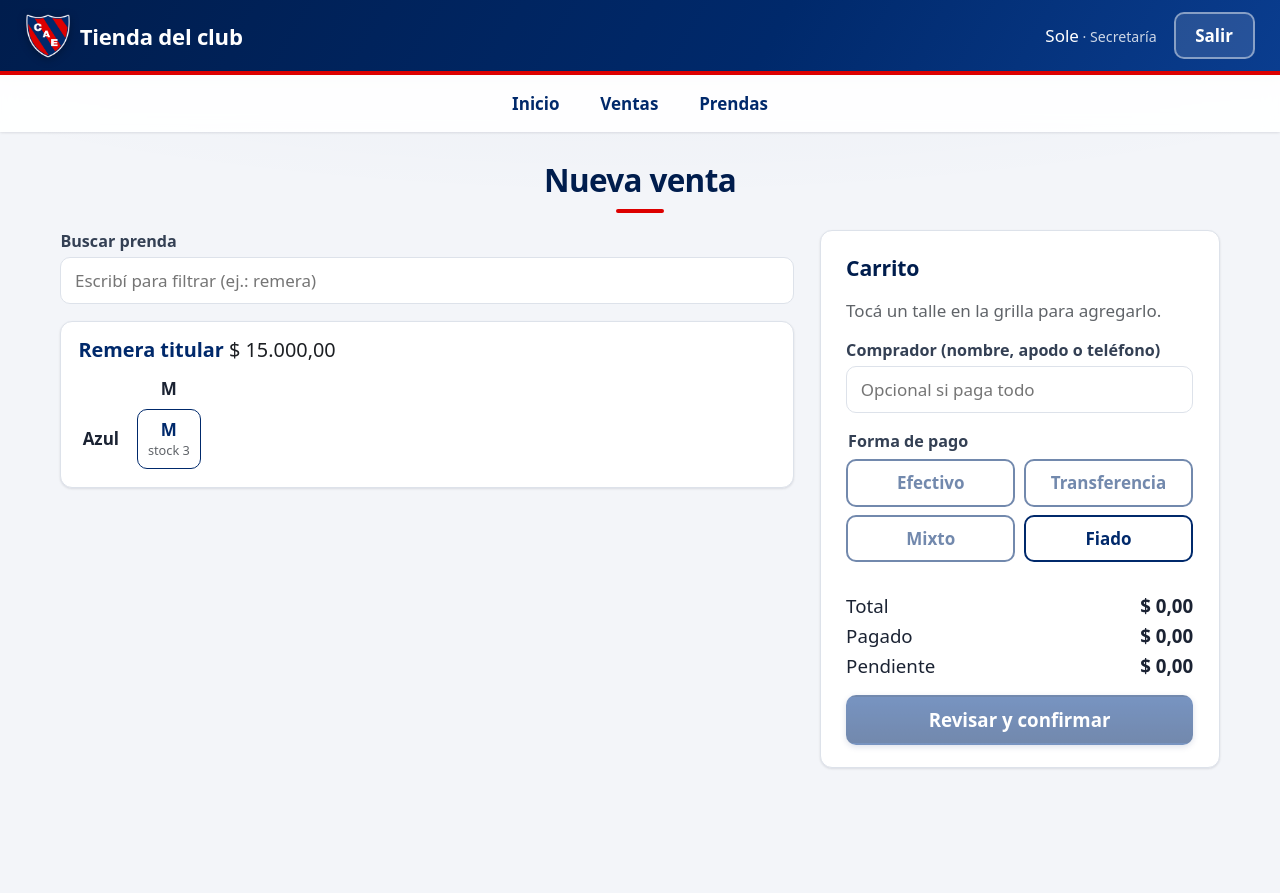
Test: Nueva venta › pago mixto: al escribir el efectivo, la transferencia se completa con lo que falta
This screenshot has width=1280, height=893.
Step 1. Type "remera" into the search field labelled "Buscar prenda" → (427, 281), box [60,257,794,304]
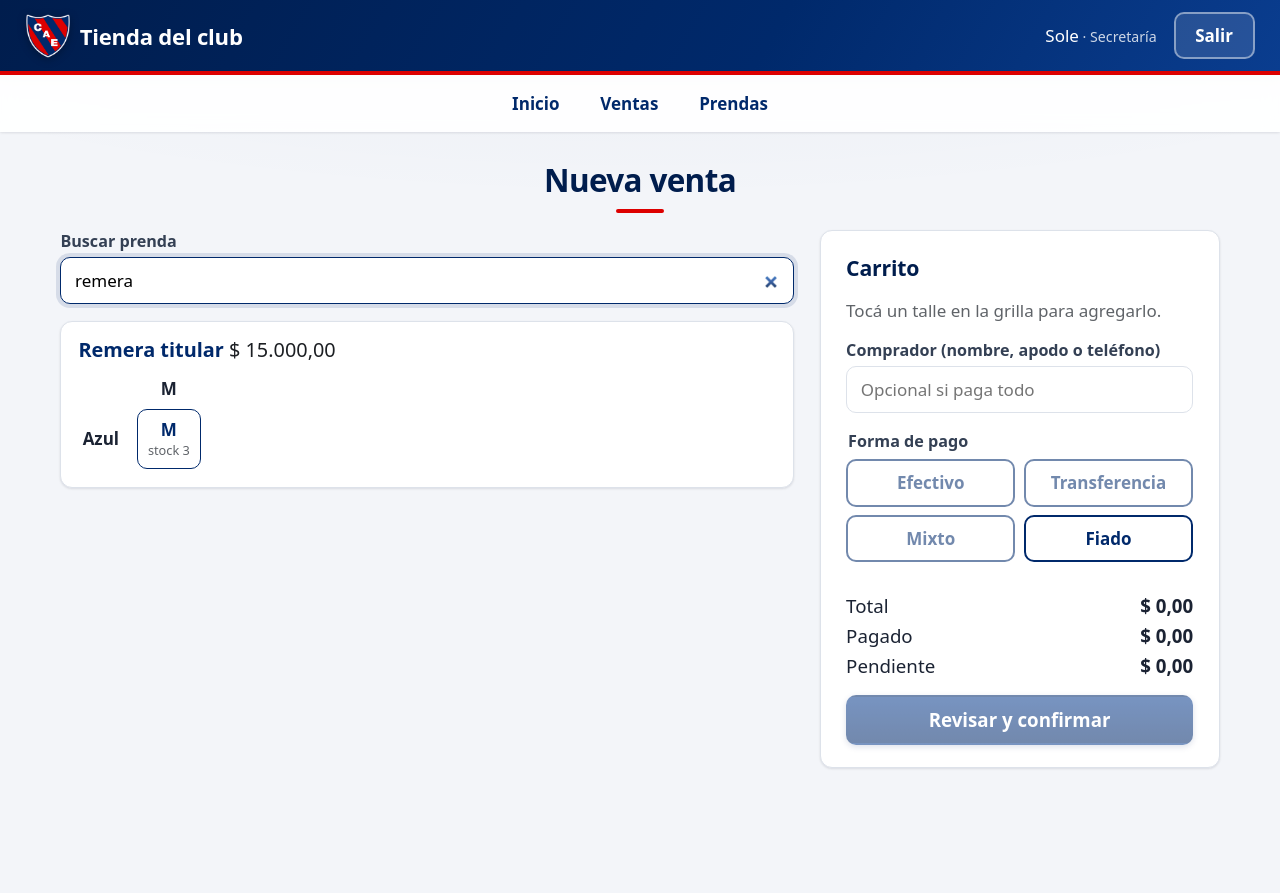
Step 2. Click the button with aria-label "Azul M, stock 3" → (169, 439), box [137,409,201,469]
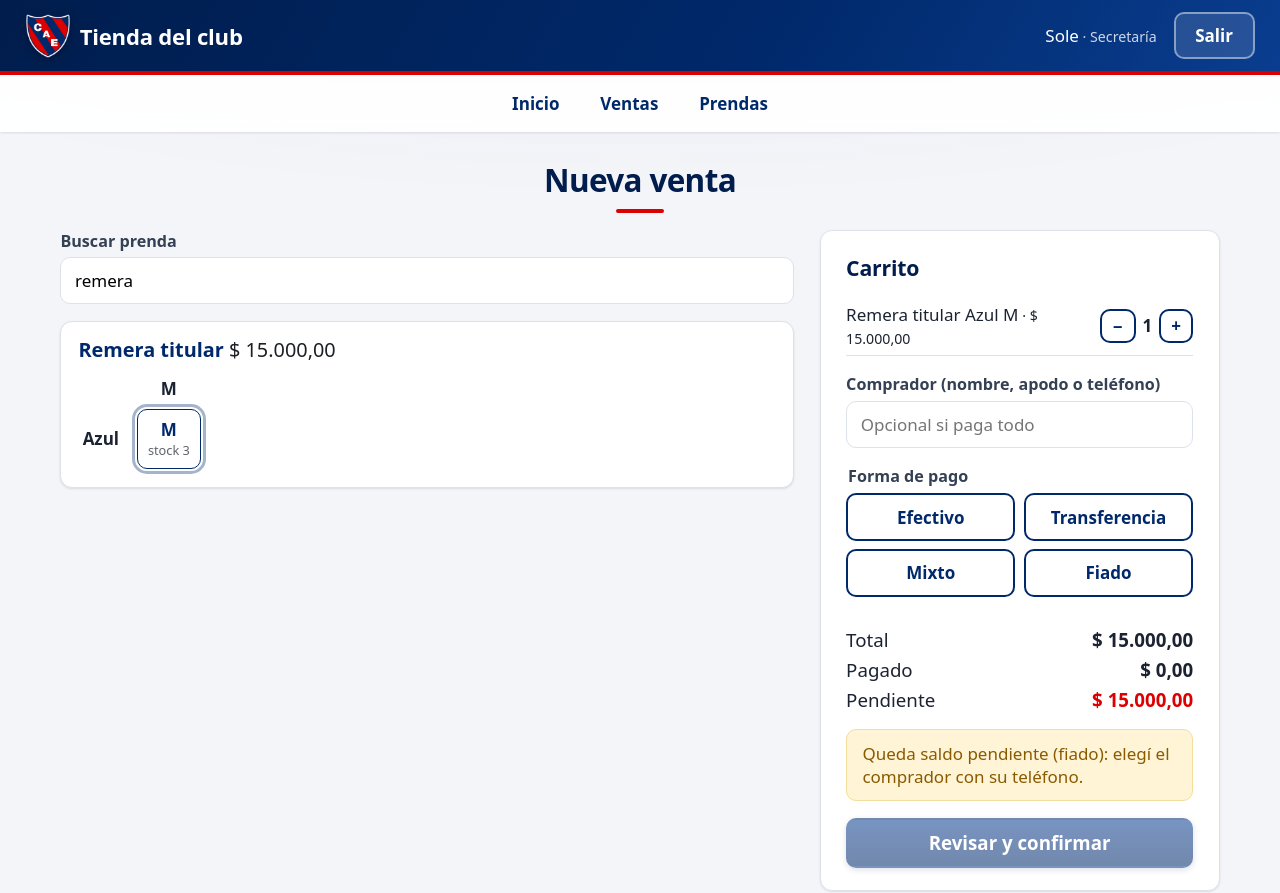
Step 3. Click the button "Mixto" → (931, 573), box [846,549,1015,597]
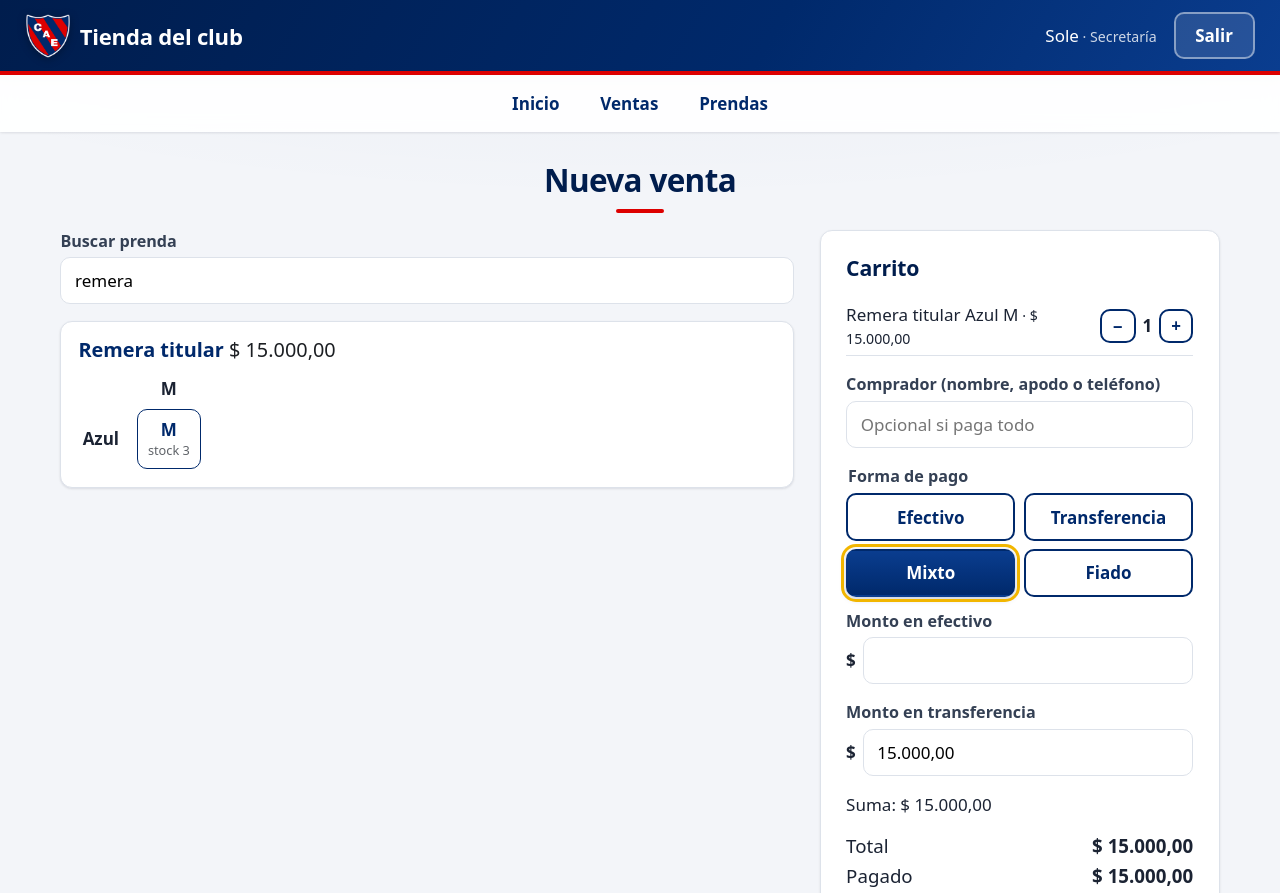
Step 4. Type "4000" into the field labelled "Monto en efectivo" → (1028, 661), box [863,637,1193,684]
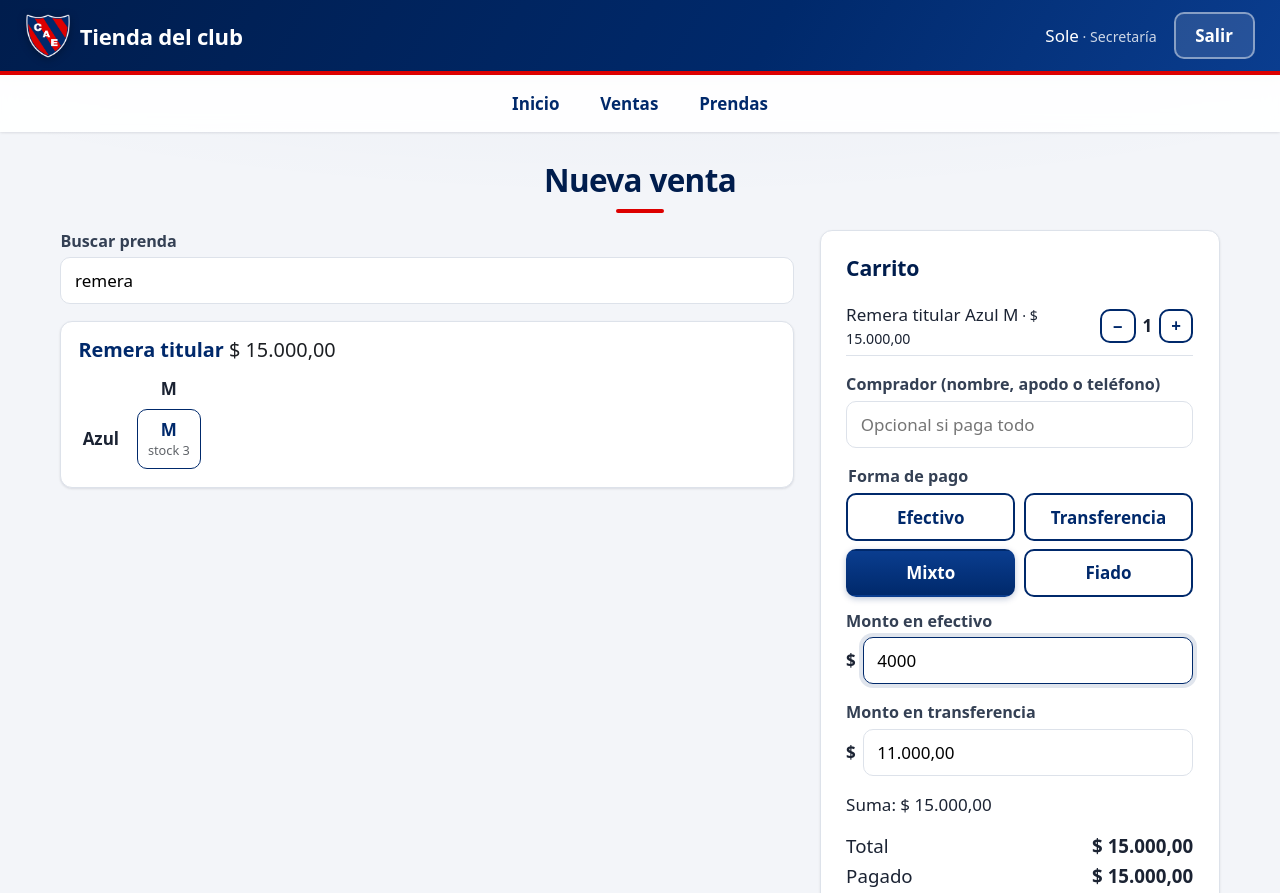
Expected: the field labelled "Monto en transferencia" holds "11.000,00", [863,728,1193,776]
